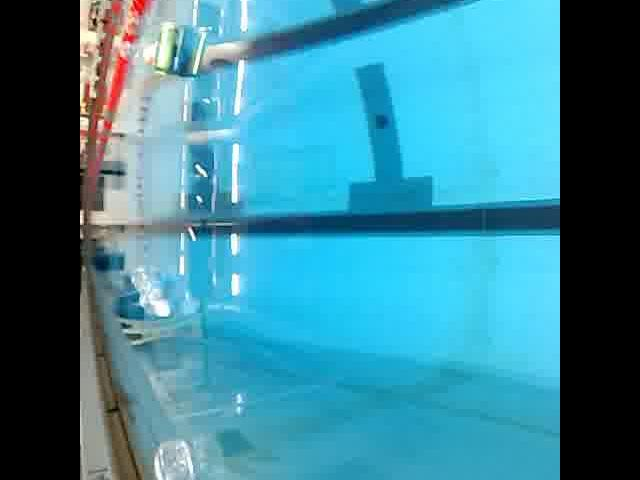Bottle: (128, 262, 178, 324), (149, 427, 197, 480)
Can: (152, 15, 196, 80)
